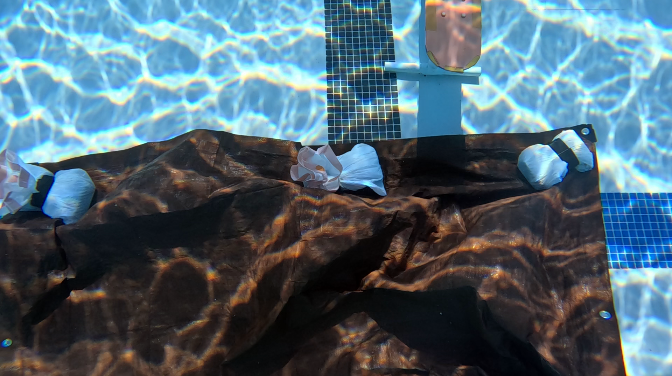sandbag: (0, 125, 624, 375)
